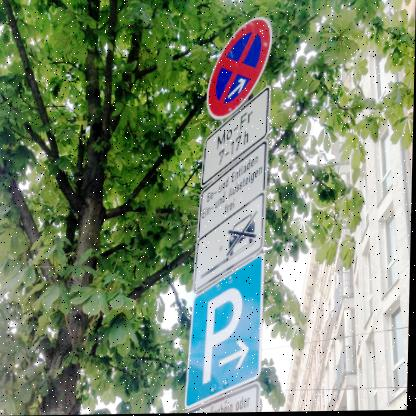Parking: (181, 263, 274, 405)
